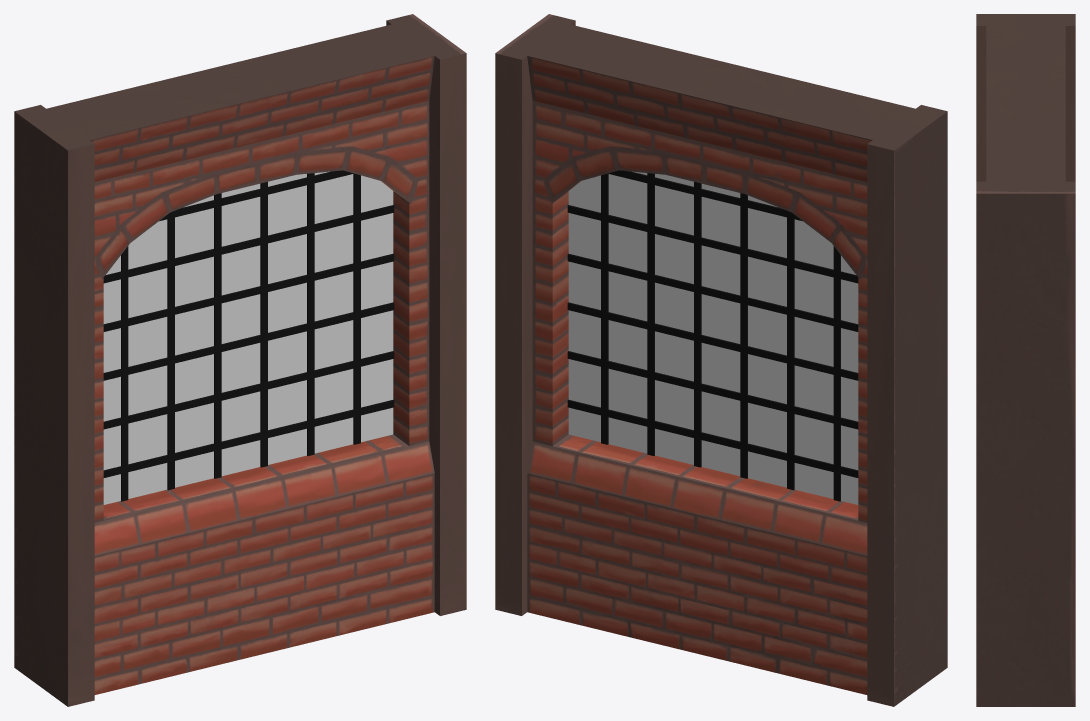
Rendered from Wall.fbx.
3 renders of one model, left to right at view 1: azimuth 30°, elevation 25°; view 2: azimuth 150°, elevation 25°; view 3: azimuth 270°, elevation 25°, orthographic. The views are drawn at different scales.
Parts seen in each view (by area): view 1: Plane, Plane.001, Plane.002; view 2: Plane, Plane.001, Plane.002; view 3: Plane.
Boxes of the visible parts, x1,y1,x2,y2 form: Plane: (14, 14, 466, 706); Plane.001: (103, 171, 393, 504); Plane.002: (103, 170, 394, 501); Plane: (495, 14, 947, 706); Plane.001: (568, 171, 858, 504); Plane.002: (567, 170, 858, 501); Plane: (976, 14, 1075, 706).
Size of the model in its own units: 600 by 800 by 140.
